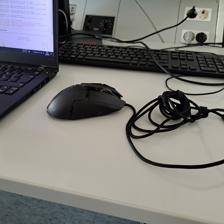mouse: (46, 81, 124, 121)
